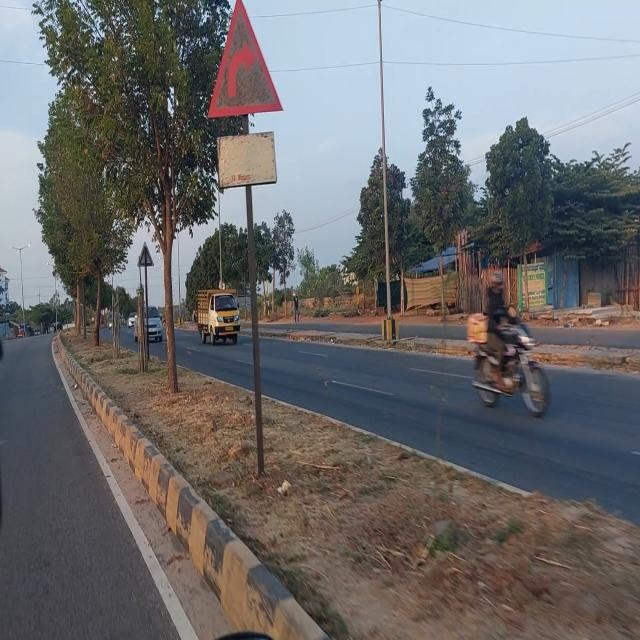bien_nguy_hiem: (202, 6, 284, 122)
